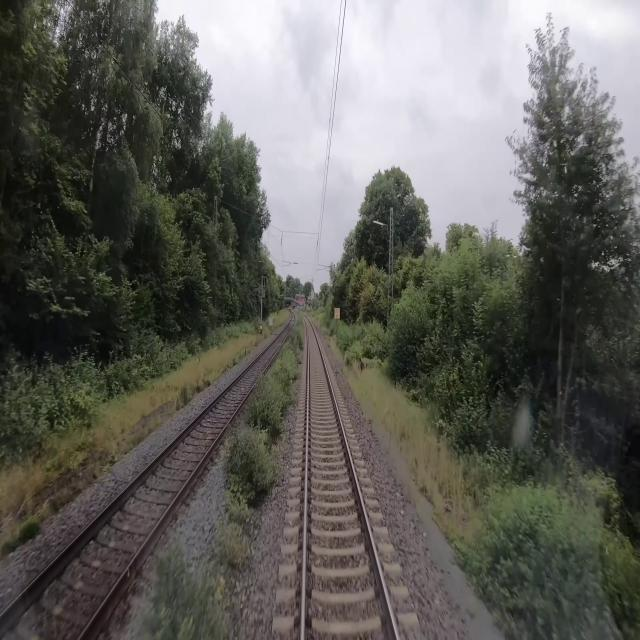Plant: (212, 313, 305, 577), (133, 538, 234, 639)
